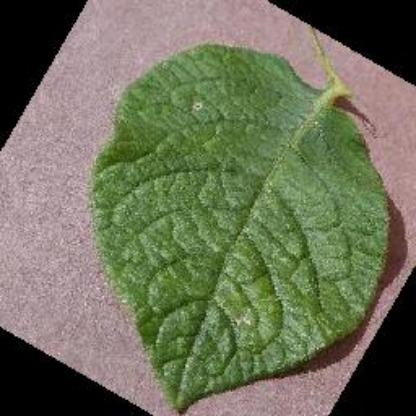Healthy-plant: (92, 31, 406, 411)
